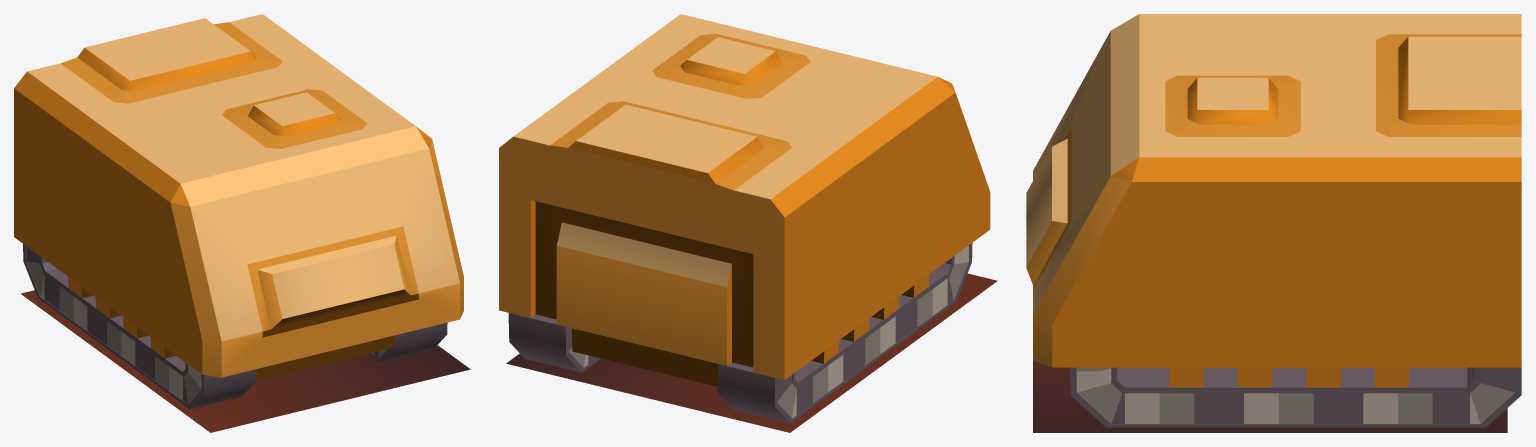
The model's file is APCMesh.AmberBlaze.glb.
The picture shows the model from 3 angles, left to right: view 1: azimuth 30°, elevation 25°; view 2: azimuth 150°, elevation 25°; view 3: azimuth 270°, elevation 25°; orthographic projection. The views are drawn at different scales.
Visible parts, largest first — view 1: APCMesh.AmberBlaze; view 2: APCMesh.AmberBlaze; view 3: APCMesh.AmberBlaze.
Boxes of the visible parts, box(x1,y1,x2,y2) form: APCMesh.AmberBlaze: box(14, 14, 470, 432); APCMesh.AmberBlaze: box(499, 14, 997, 432); APCMesh.AmberBlaze: box(1026, 14, 1521, 432).
Bounding box in the file's own units: 1.51 × 1.25 × 1.98.
1 material, 1 textured.
